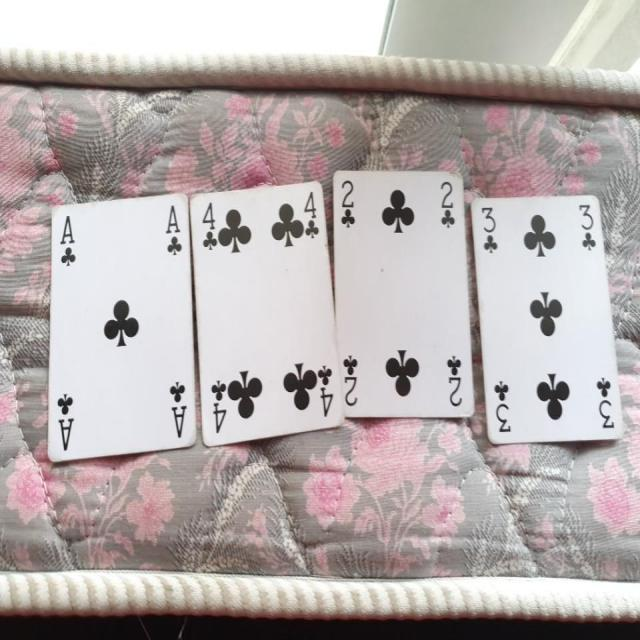2 Trefoils: (332, 167, 478, 416)
3 Trefoils: (470, 194, 625, 445)
4 Trefoils: (189, 179, 346, 449)
A Trefoils: (44, 190, 197, 465)
